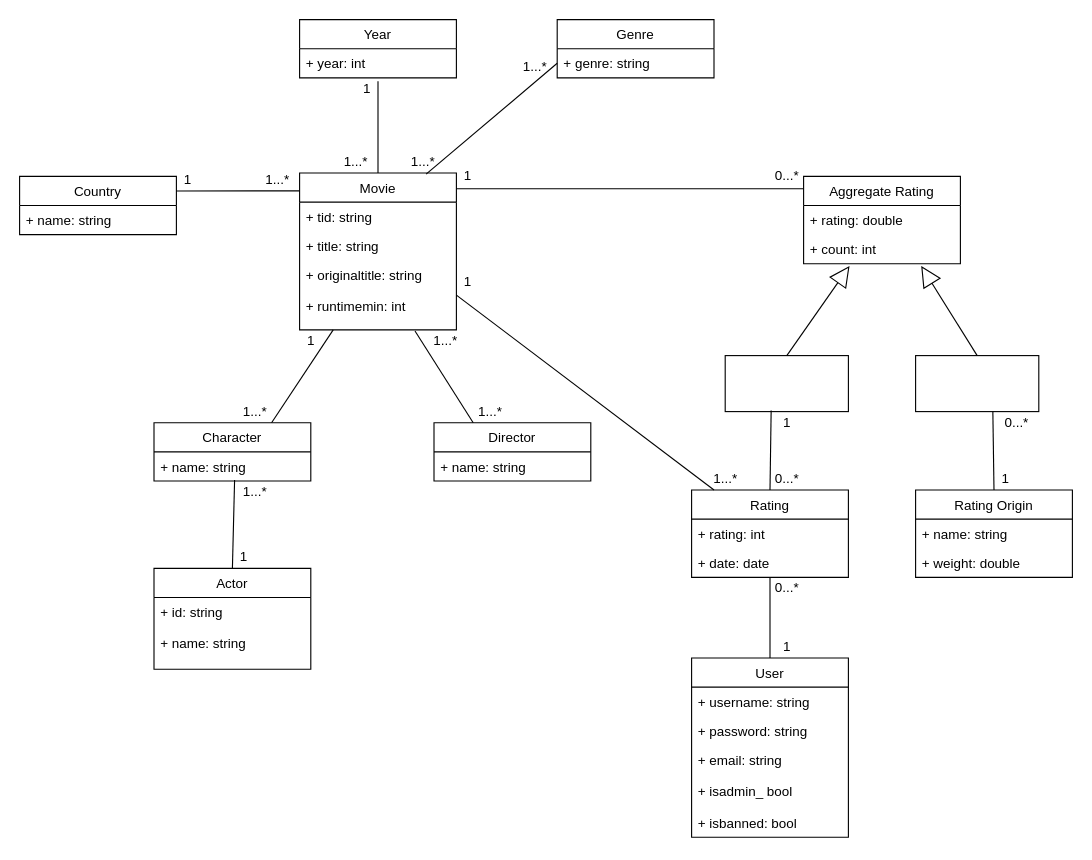
This 1092x860 diagram has some shape labels left out. The centre of each missing label's shape, as x and y in pixels:
External Rating: pixel 976 383
Internal Rating: pixel 786 383
